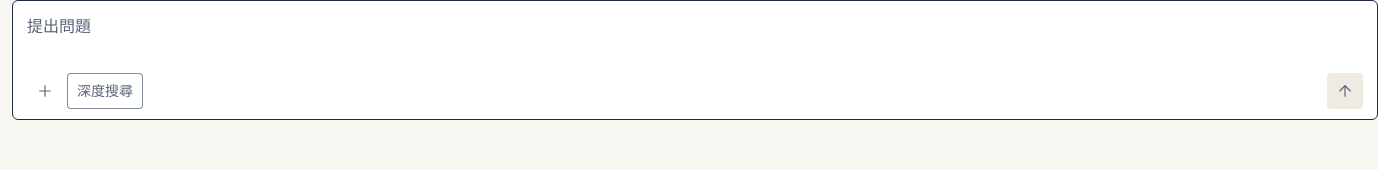
Test: 免費帳號的深度搜尋 › 後端給了題數（預設 3）：切換鈕在，開著時說用掉 3 題
Click the button "深度搜尋" at point(105, 91), box [67, 73, 143, 109]
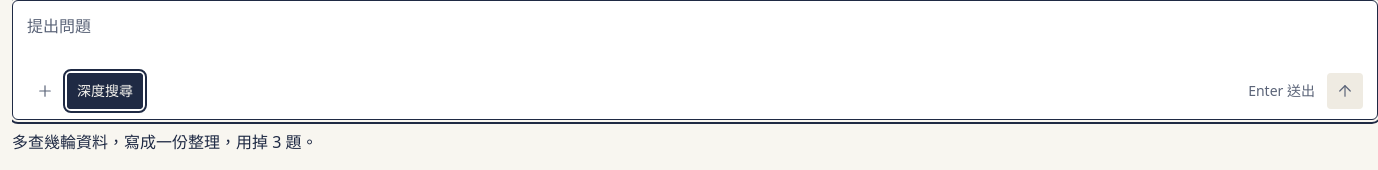
Expected: the text "多查幾輪資料，寫成一份整理，用掉 3 題。" is shown, [12, 131, 318, 153]
